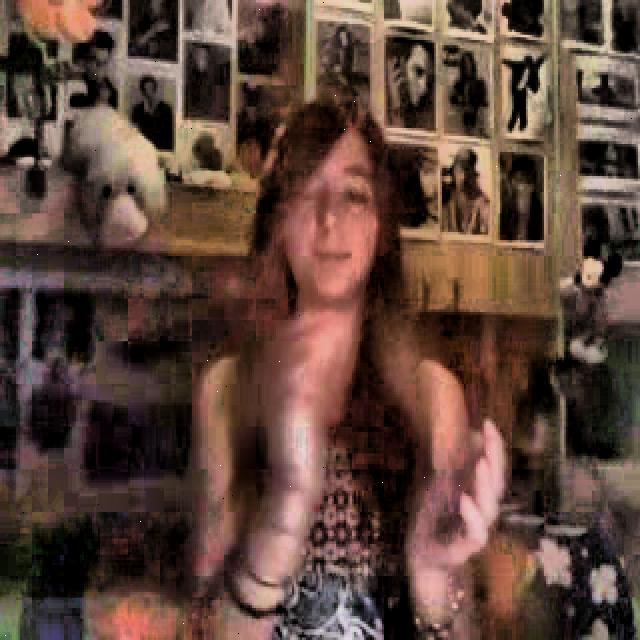F: (189, 79, 496, 640)
